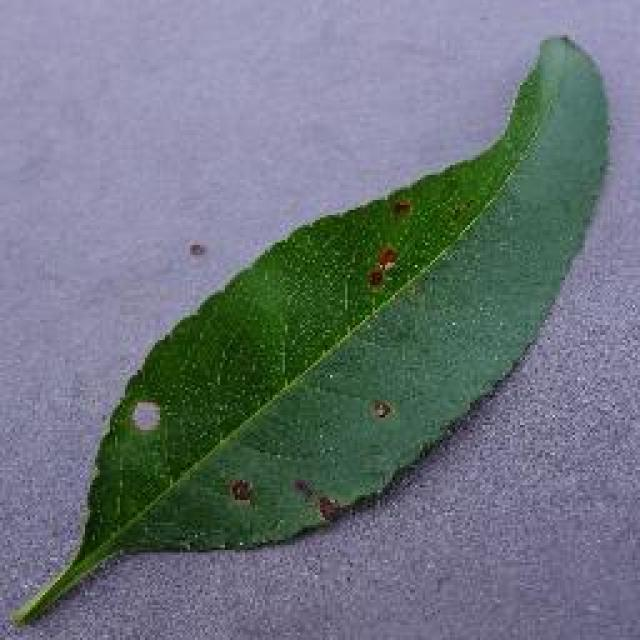Peach_Bacterial_Spot: (202, 208, 490, 540)
